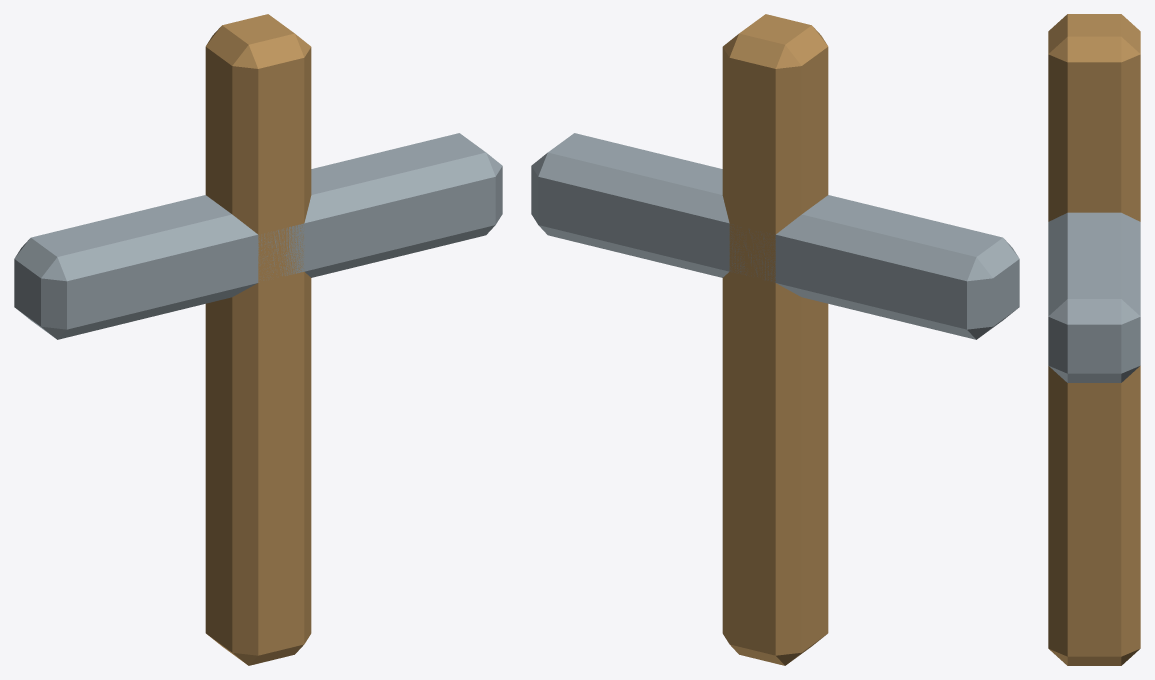
The model's file is SH10_Cross.fbx.
The picture shows the model from 3 angles, left to right: view 1: azimuth 30°, elevation 25°; view 2: azimuth 150°, elevation 25°; view 3: azimuth 270°, elevation 25°; orthographic projection.
Visible parts, largest first — view 1: SH10_Cross; view 2: SH10_Cross; view 3: SH10_Cross.
Part boxes in pixels (<box>): SH10_Cross: <box>14,14,502,665</box>; SH10_Cross: <box>531,14,1019,665</box>; SH10_Cross: <box>1048,14,1140,665</box>.
Bounding box in the file's own units: 70 × 90 × 12.
